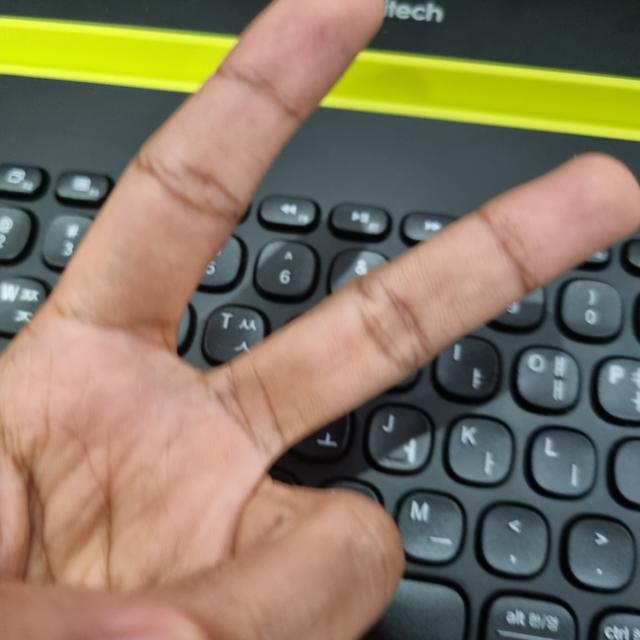Scissors: (0, 0, 638, 640)
